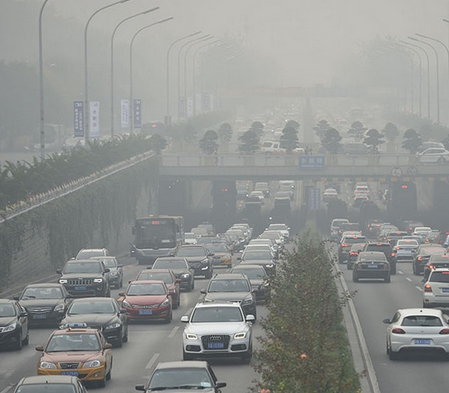bus: (130, 215, 184, 265)
car: (34, 320, 112, 388), (179, 298, 254, 364), (58, 297, 129, 349), (381, 307, 447, 362), (135, 358, 226, 393), (198, 271, 257, 324), (12, 283, 73, 326), (118, 280, 175, 324), (55, 259, 111, 298), (135, 268, 181, 311), (227, 264, 274, 304), (146, 256, 196, 292), (6, 372, 88, 393), (169, 245, 214, 279), (1, 298, 29, 350), (357, 241, 397, 275), (350, 250, 391, 281), (86, 255, 123, 289), (235, 249, 276, 279), (410, 245, 448, 276), (421, 265, 449, 306), (69, 248, 107, 278), (346, 242, 379, 271), (337, 235, 370, 264), (203, 242, 232, 269), (412, 146, 449, 165), (391, 238, 420, 262), (411, 139, 445, 159), (259, 138, 295, 155), (336, 222, 364, 243), (329, 218, 351, 242), (180, 232, 198, 248)
